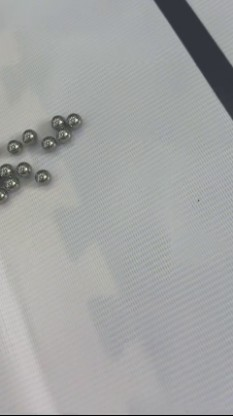ironball: (64, 109, 84, 131), (19, 124, 39, 146), (34, 165, 52, 187), (5, 135, 24, 155), (46, 110, 63, 130), (14, 160, 32, 178), (0, 174, 19, 190), (39, 133, 55, 151), (54, 127, 72, 142), (0, 160, 12, 179), (0, 188, 10, 208)
